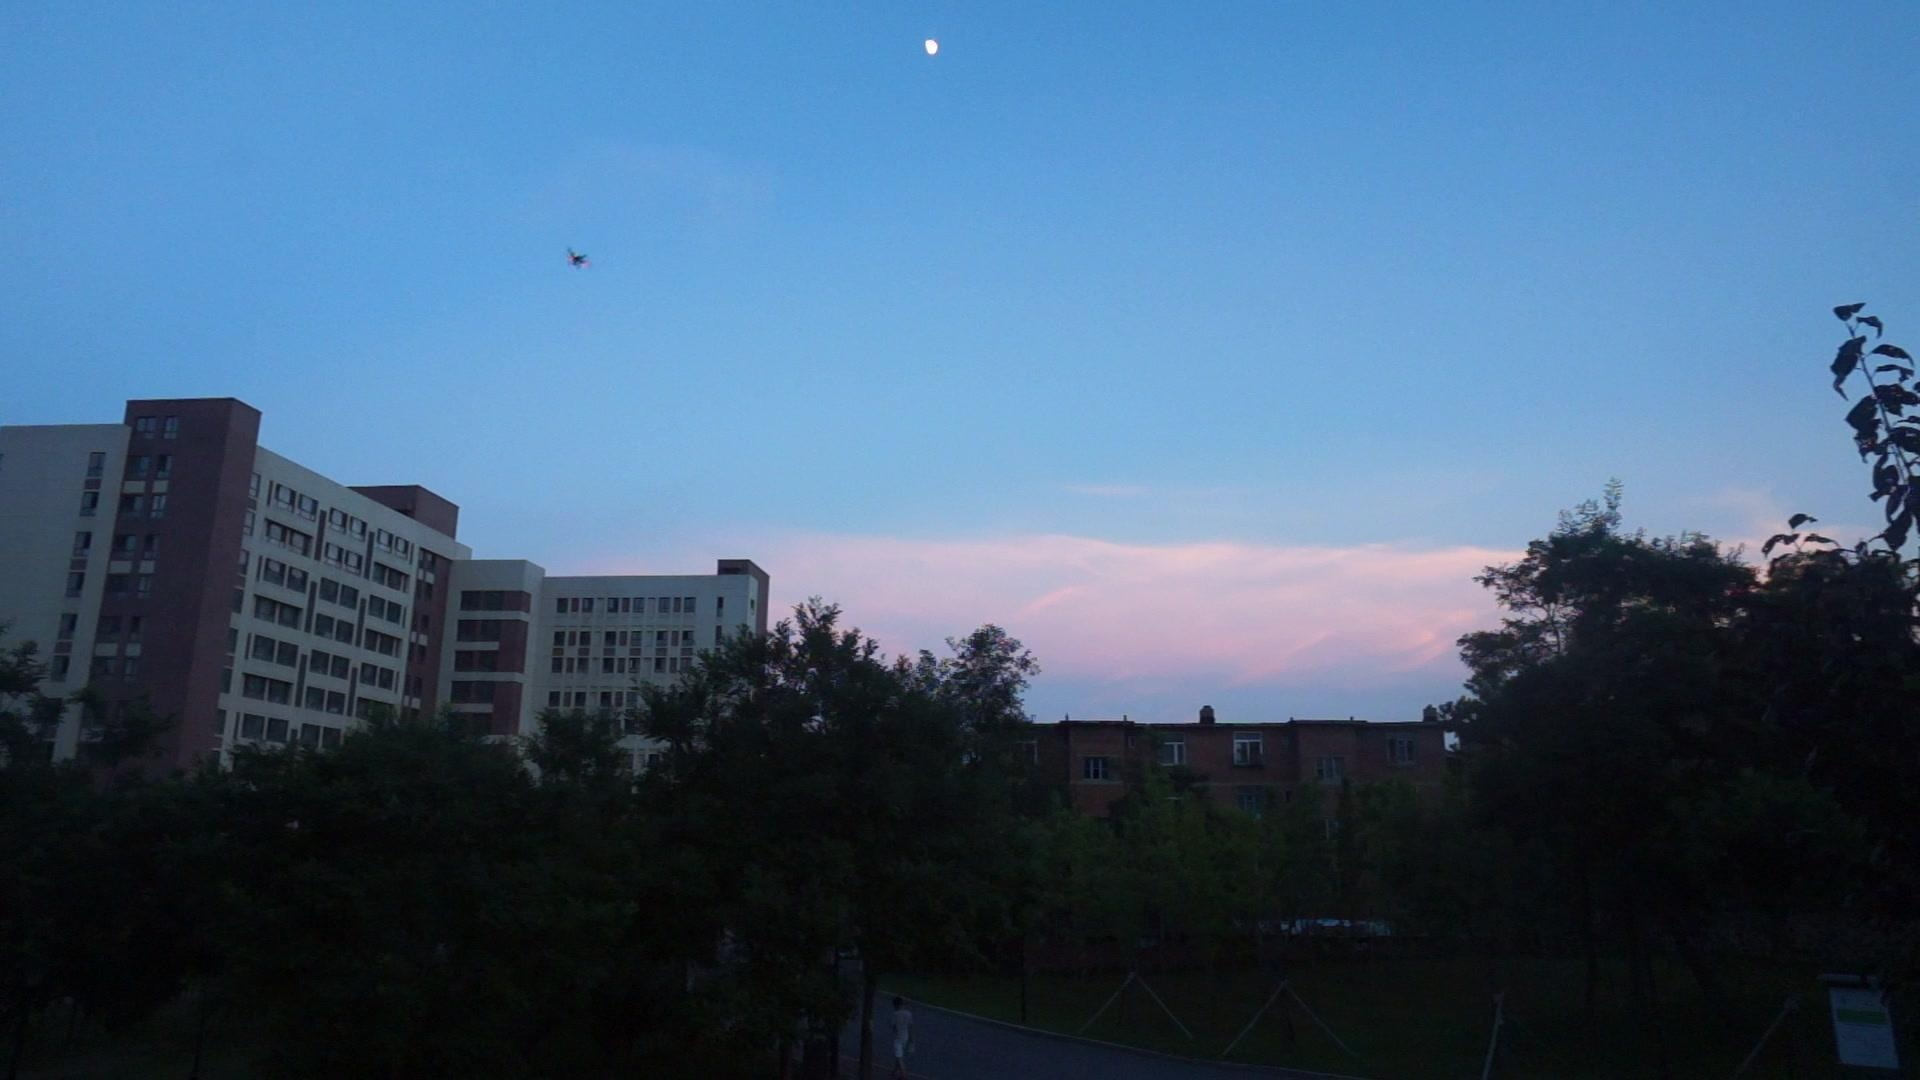UAV: (566, 248, 589, 272)
